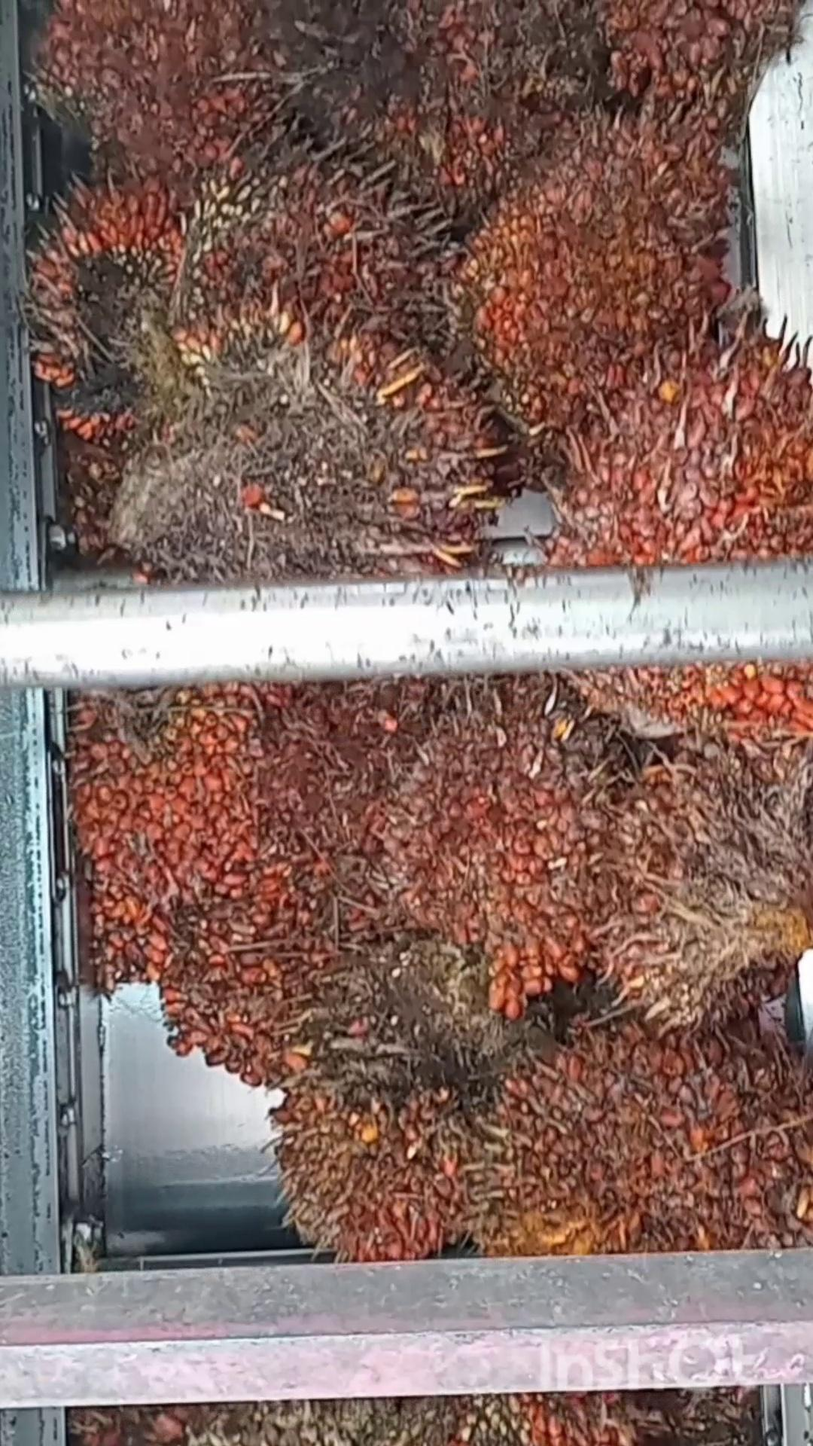Maduro: (451, 132, 748, 422), (96, 682, 349, 984), (378, 715, 602, 1006), (560, 316, 813, 560), (454, 1035, 734, 1250), (169, 144, 445, 353), (261, 1043, 493, 1269), (30, 178, 214, 446), (326, 44, 553, 229), (160, 908, 372, 1091), (36, 0, 263, 165), (595, 0, 799, 112), (435, 0, 603, 117)
SM: (598, 723, 813, 1039)
Verde: (109, 309, 493, 576)
